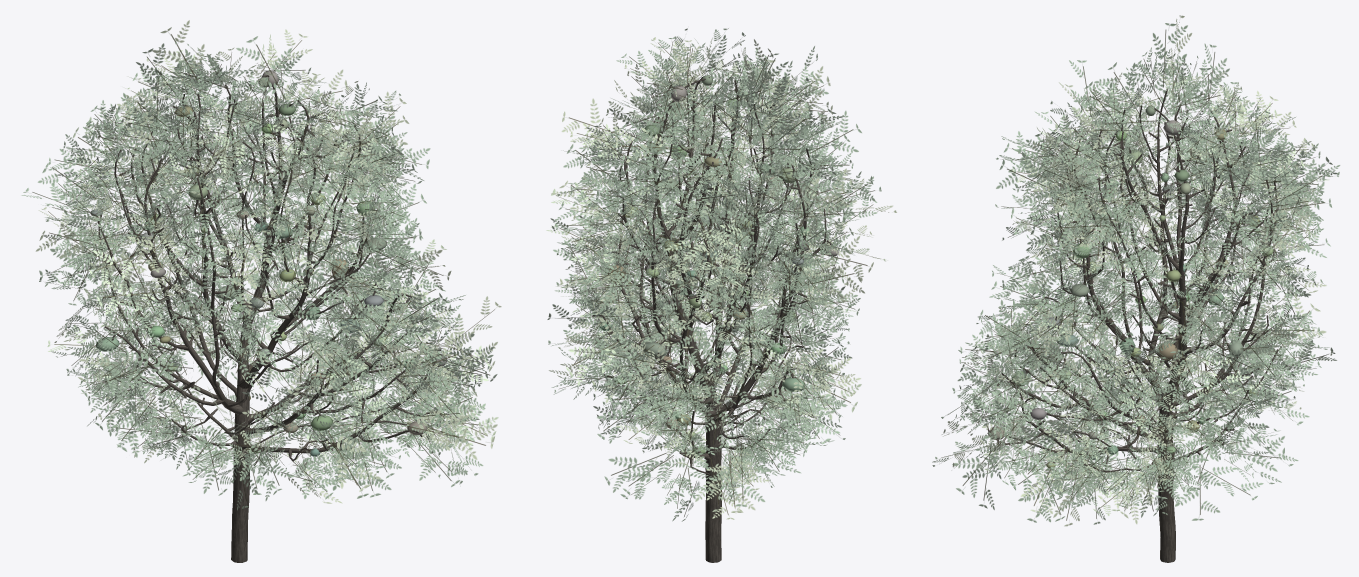
File: tree_58_broadleaf.glb
3 renders of one model, left to right at view 1: azimuth 30°, elevation 25°; view 2: azimuth 150°, elevation 25°; view 3: azimuth 270°, elevation 25°, orthographic. The views are drawn at different scales.
Parts seen in each view (by area): view 1: tree_58_broadleaf.leaves, tree_58_broadleaf.trunk_branches, tree_58_broadleaf.foliage_volume; view 2: tree_58_broadleaf.leaves, tree_58_broadleaf.trunk_branches, tree_58_broadleaf.foliage_volume; view 3: tree_58_broadleaf.leaves, tree_58_broadleaf.trunk_branches, tree_58_broadleaf.foliage_volume.
Part boxes in pixels (box(x1,y1,x2,y2)): tree_58_broadleaf.leaves: box(21, 20, 501, 510); tree_58_broadleaf.trunk_branches: box(96, 75, 444, 562); tree_58_broadleaf.foliage_volume: box(90, 71, 446, 456); tree_58_broadleaf.leaves: box(546, 28, 896, 521); tree_58_broadleaf.trunk_branches: box(592, 77, 832, 562); tree_58_broadleaf.foliage_volume: box(599, 75, 838, 454); tree_58_broadleaf.leaves: box(932, 15, 1340, 526); tree_58_broadleaf.trunk_branches: box(986, 88, 1279, 562); tree_58_broadleaf.foliage_volume: box(987, 105, 1285, 468).
Bounding box in the file's own units: 9.08 × 12.37 × 8.86.
3 materials, 2 textured.
